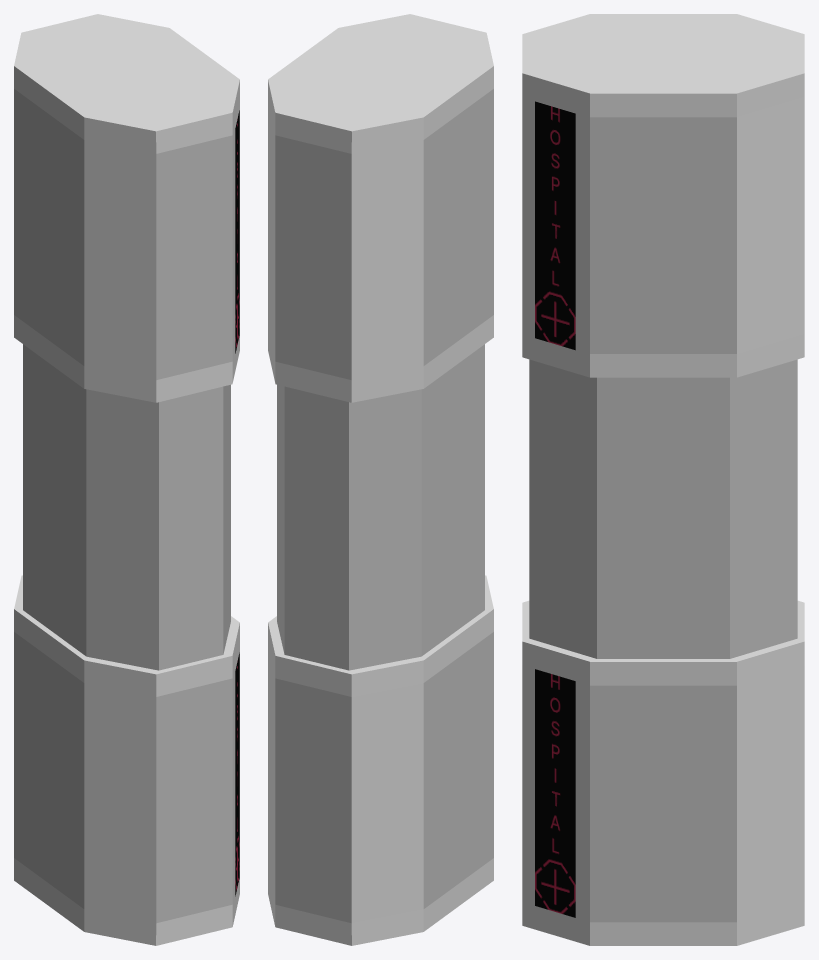
The model's file is Skyscraper_2.fbx.
3 views of the same model, side by side, from view 1: azimuth 30°, elevation 25°; view 2: azimuth 150°, elevation 25°; view 3: azimuth 270°, elevation 25° (orthographic). The views are drawn at different scales.
Parts seen in each view (by area): view 1: Cube.020, Cube.022, Cube.021; view 2: Cube.020; view 3: Cube.020, Cube.022, Cube.021.
Part boxes in pixels (x1,y1,x2,y2): Cube.020: (14, 14, 239, 945); Cube.022: (235, 652, 239, 896); Cube.021: (235, 110, 239, 353); Cube.020: (268, 14, 493, 945); Cube.020: (522, 14, 804, 945); Cube.022: (535, 669, 575, 917); Cube.021: (535, 101, 575, 350).
Bounding box in the file's own units: 9600 × 14400 × 48000.
